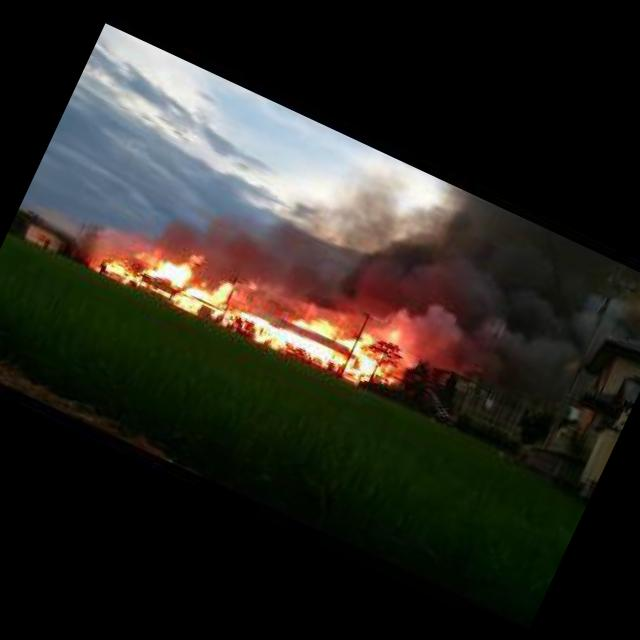fire: (89, 202, 413, 403)
smoke: (165, 86, 554, 390)
